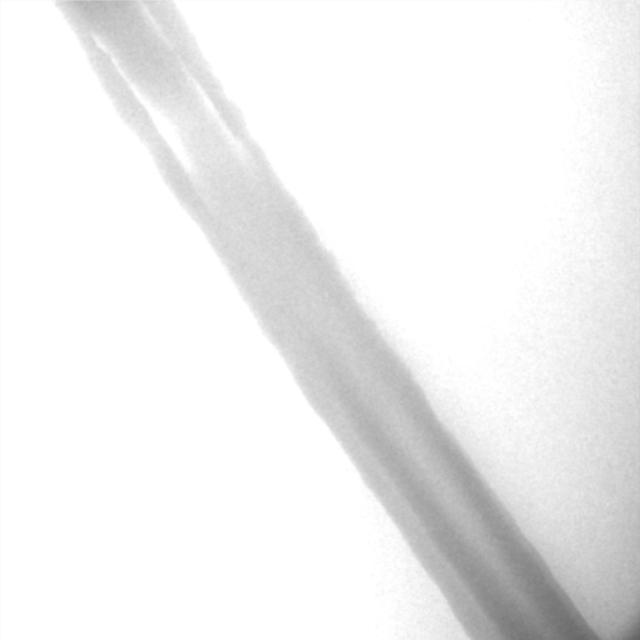unfused: (95, 12, 252, 184)
